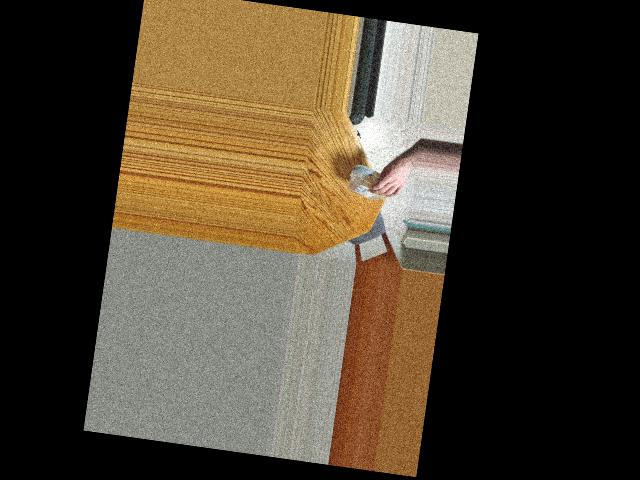cheese: (359, 164, 401, 202)
